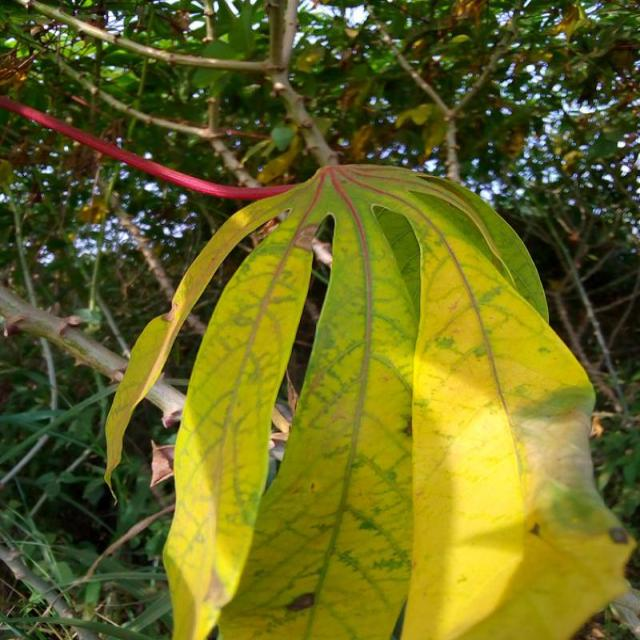cassava leaf: (103, 161, 634, 638)
